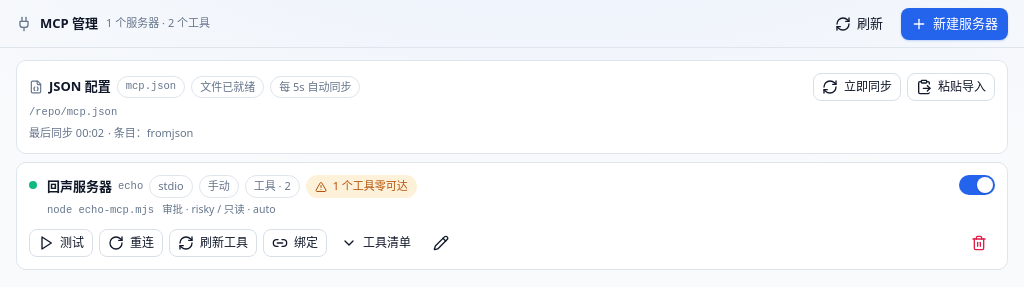
Test: M28：McpConsole（JSON 配置卡片） › 点击「立即同步」：POST /api/mcp/json-config/sync 并刷新服务器清单
Click the button "立即同步" at {"x": 857, "y": 87}, box 813,73 -> 901,101
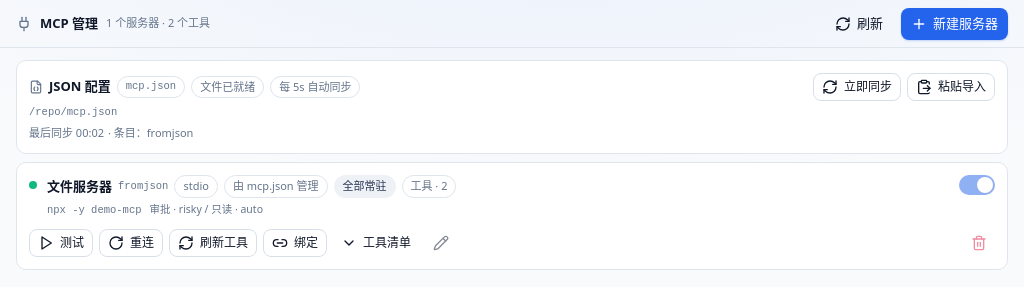
expect the text "文件服务器" is shown: met, box 47,177 -> 112,196
